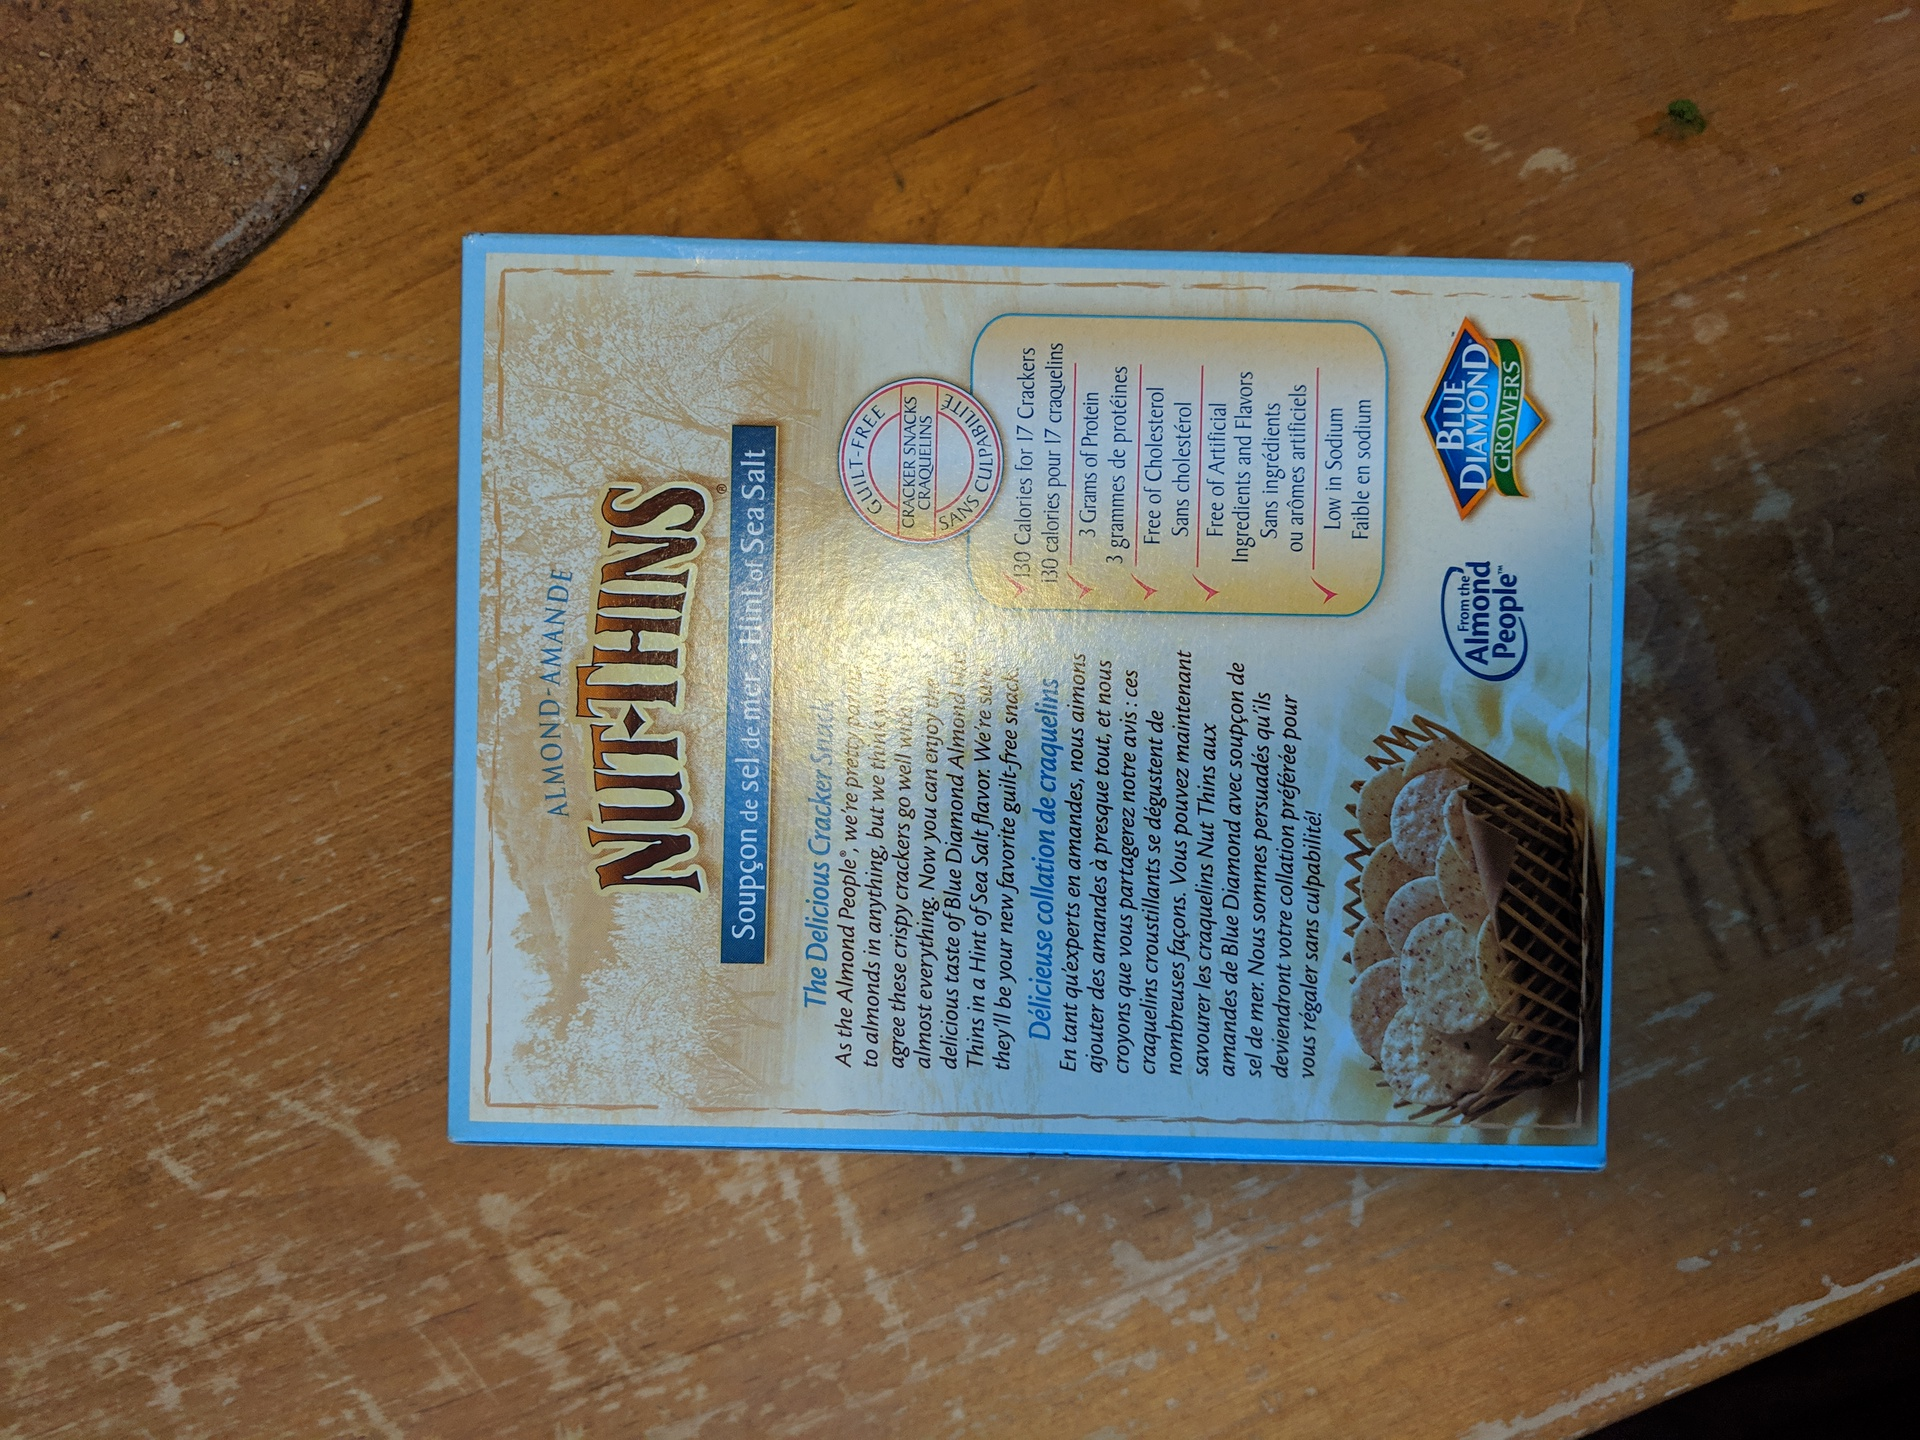blue_diamond_nut_thins_almond_seasalt: (458, 228, 1618, 1171)
